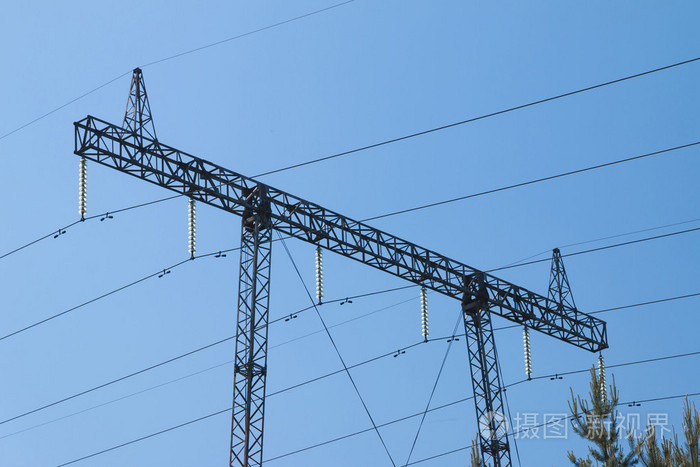insulator: (75, 159, 88, 216), (185, 199, 197, 255), (521, 330, 534, 376), (419, 291, 431, 338), (315, 250, 325, 302)
